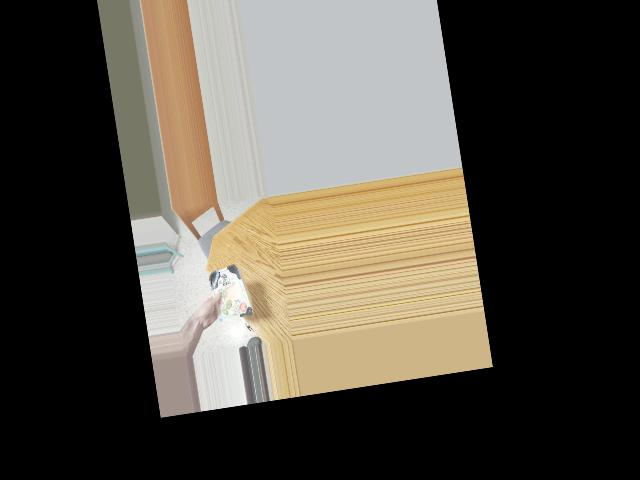cheese: (201, 266, 250, 316)
